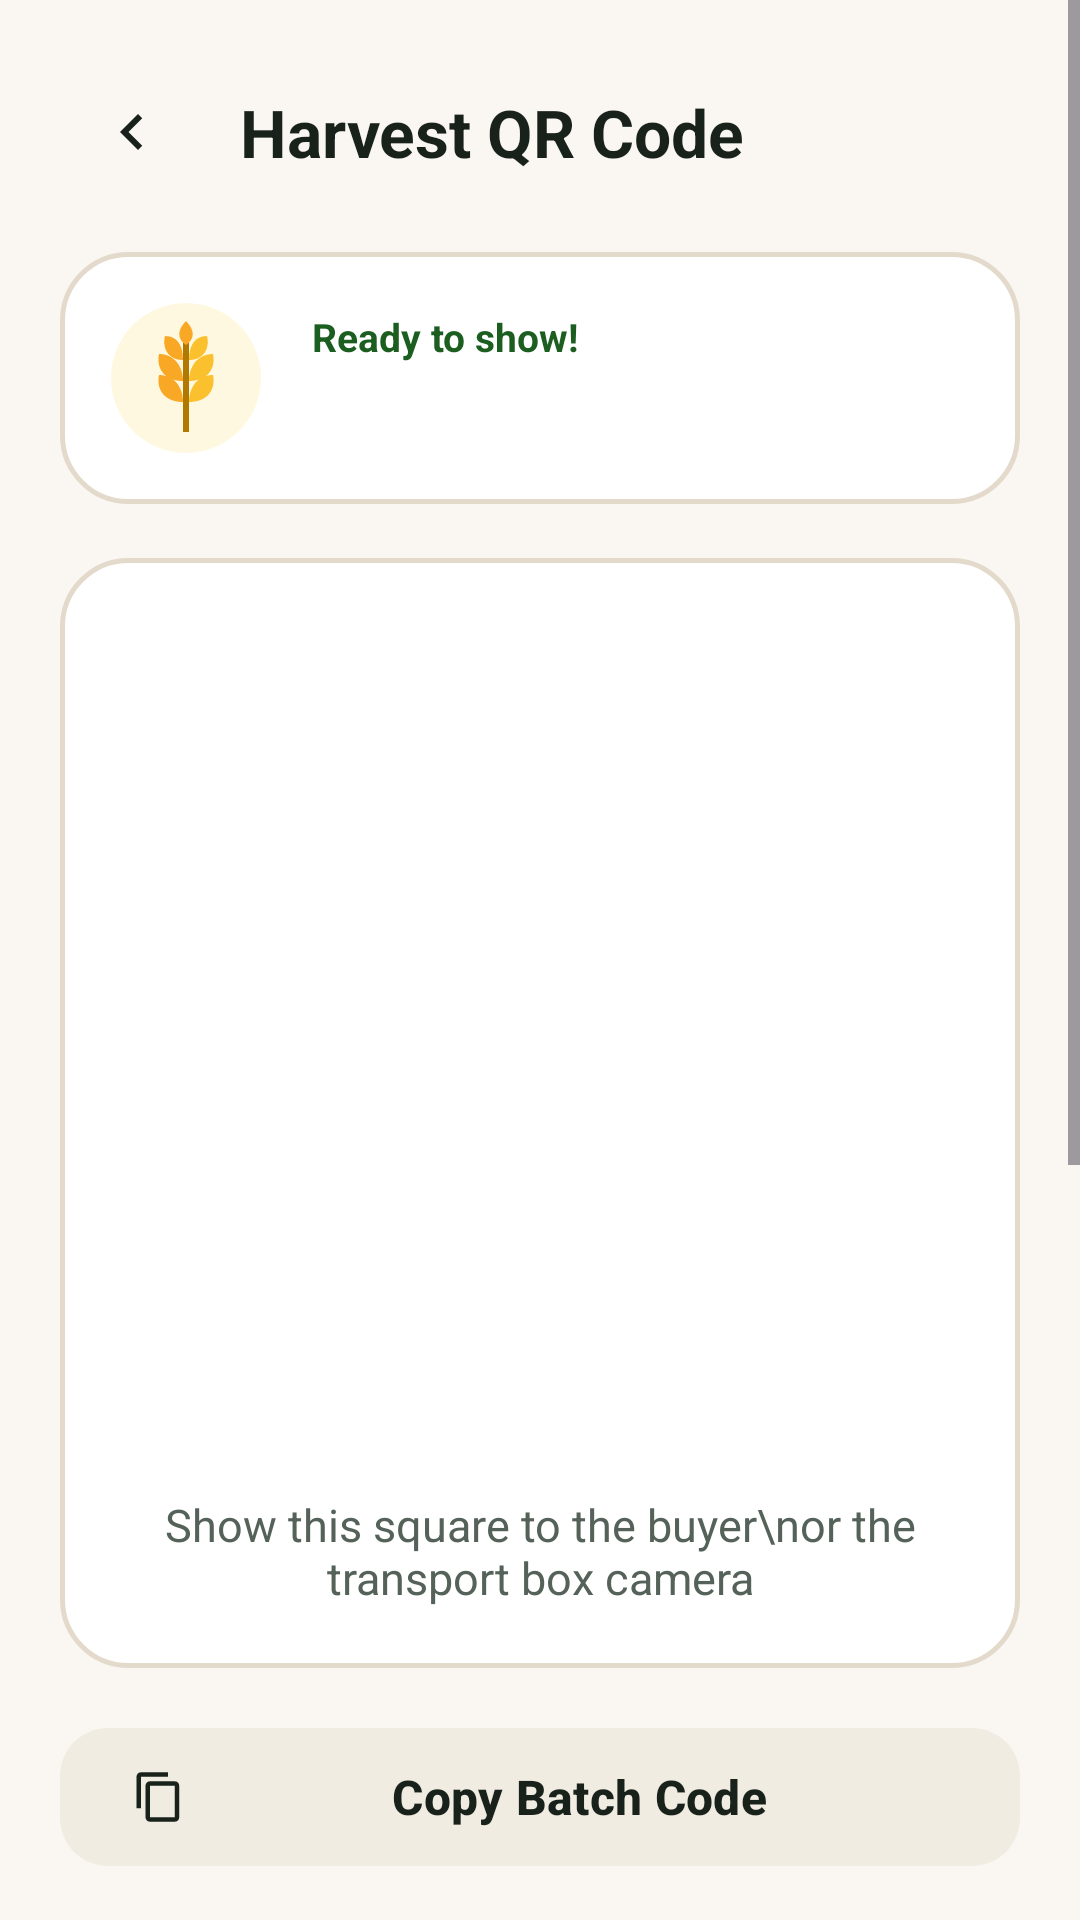

Icons on this 1080 x 1920 Android screen, each with the point to tap as point (x, y):
Back: point (131, 132)
Crop: point (186, 378)
